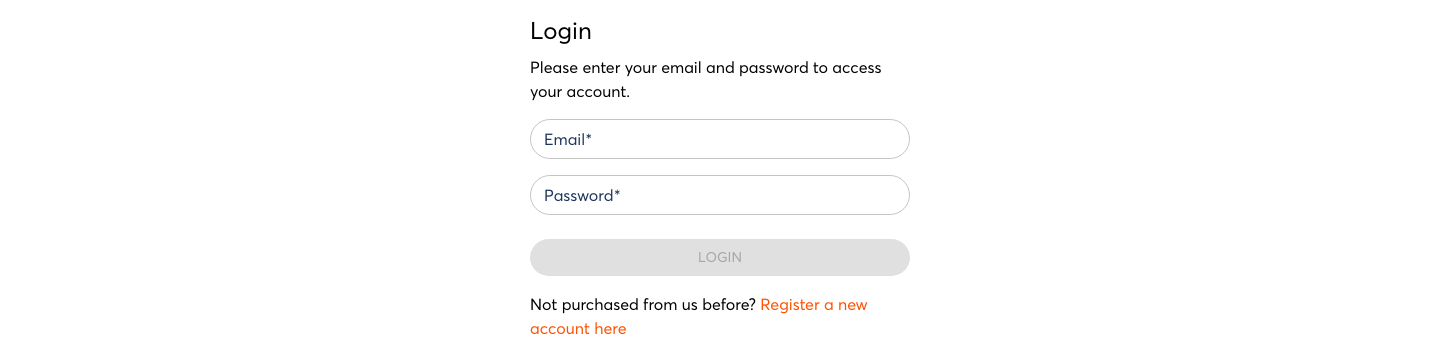
Test: Login Page › should login successfully and navigate to home page
The width and height of the screenshot is (1440, 352).
Type "johndoe@gmail.com" into the field labelled "Email *" at coordinates (720, 139), box [530,119,910,159]
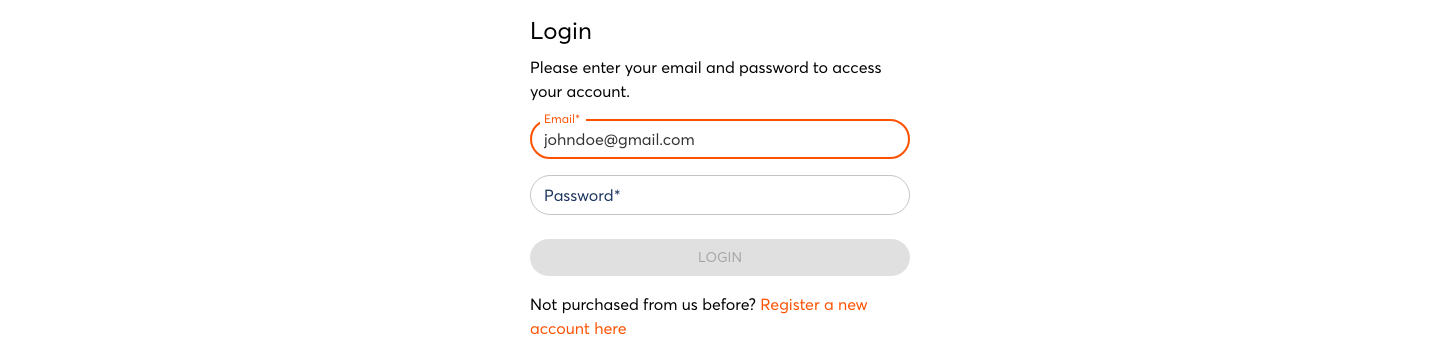
Type "Password123!" into the password field labelled "Password *" at coordinates (720, 195), box [530,175,910,215]
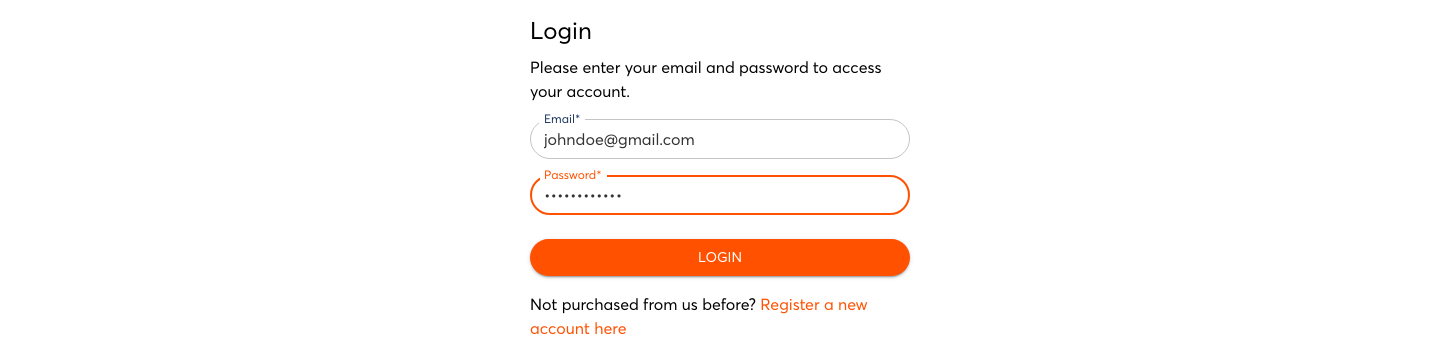
Click the button "LOGIN" at coordinates (720, 257), box [530,239,910,276]
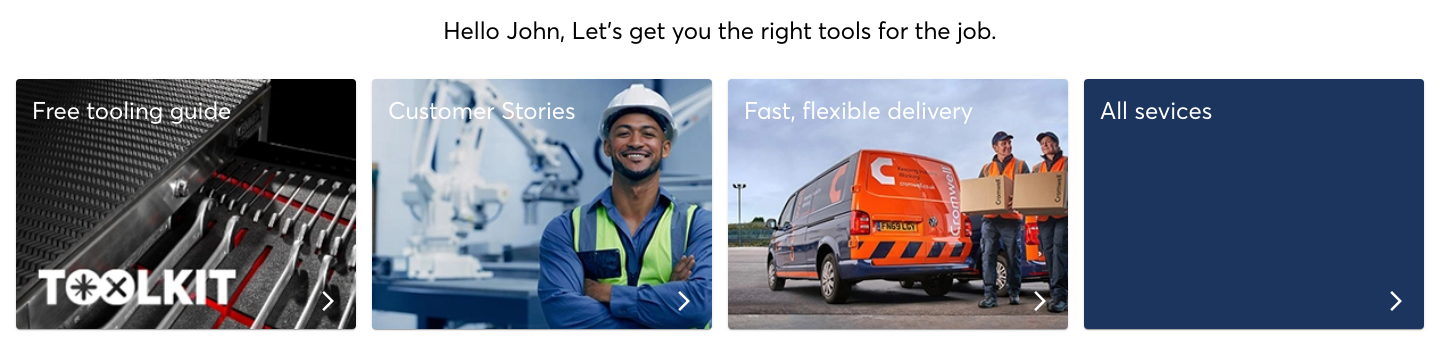
expect the heading "Hello John, Let’s get you the right tools for the job." is shown: met, box [443,16,997,45]
